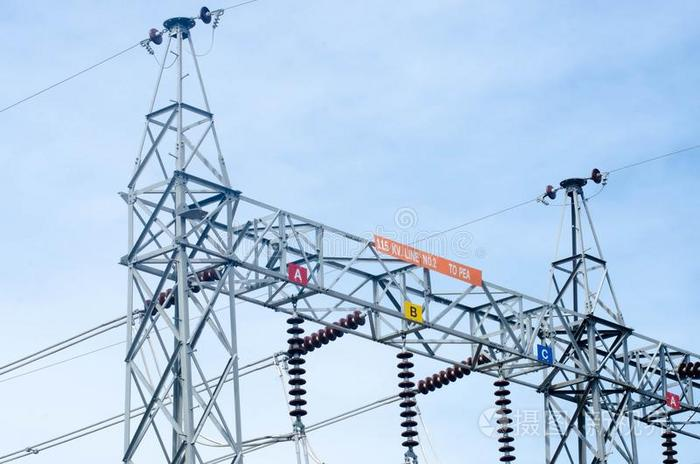insulator: (144, 267, 224, 312), (396, 351, 421, 448), (287, 313, 310, 418), (306, 312, 366, 352), (421, 356, 488, 390), (494, 379, 515, 464), (659, 430, 677, 464), (676, 361, 700, 378)
